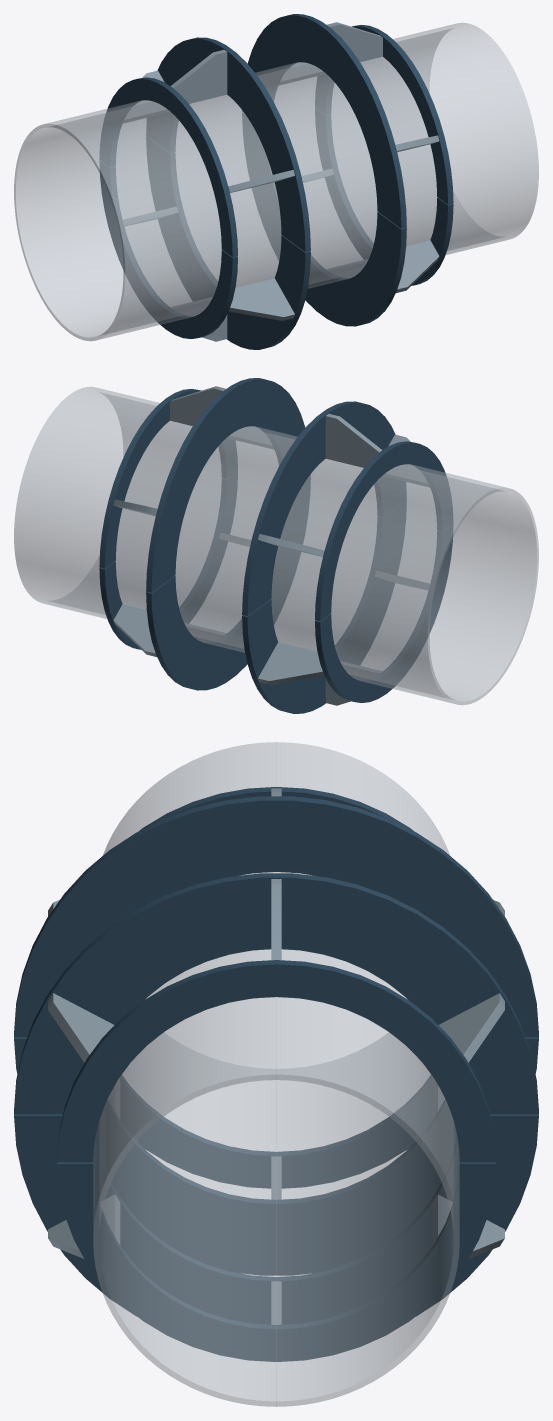
File: TS-667.00.00-opora-dn426-D610.glb
3 renders of one model, top to bottom at view 1: azimuth 30°, elevation 25°; view 2: azimuth 150°, elevation 25°; view 3: azimuth 270°, elevation 25°, orthographic. The views are drawn at different scales.
Visible parts, largest first — view 1: truba, polukoltso_1, polukoltso_6, polukoltso_11, polukoltso_16, polukoltso_usil_10, polukoltso_usil_20, polukoltso_usil_5, polukoltso_usil_15, rebro_8, rebro_17, rebro_12 (+6 smaller); view 2: truba, polukoltso_1, polukoltso_6, polukoltso_11, polukoltso_16, polukoltso_usil_10, polukoltso_usil_20, polukoltso_usil_5, polukoltso_usil_15, rebro_8, rebro_19, rebro_14 (+6 smaller); view 3: truba, polukoltso_1, polukoltso_6, polukoltso_16, polukoltso_11, polukoltso_usil_5, polukoltso_usil_15, polukoltso_usil_20, rebro_2, rebro_4, polukoltso_usil_10, rebro_12 (+2 smaller).
Part boxes in pixels (box(x1,y1,x2,y2)): truba: box(14, 22, 538, 341); polukoltso_1: box(242, 14, 406, 228); polukoltso_6: box(146, 37, 310, 251); polukoltso_11: box(242, 113, 406, 326); polukoltso_16: box(146, 136, 310, 349); polukoltso_usil_10: box(99, 77, 237, 256); polukoltso_usil_20: box(99, 161, 237, 338); polukoltso_usil_5: box(315, 25, 453, 204); polukoltso_usil_15: box(315, 108, 453, 285); rebro_8: box(171, 50, 227, 103); rebro_17: box(229, 278, 294, 320); rebro_12: box(396, 240, 439, 292); truba: box(14, 386, 538, 705); polukoltso_1: box(146, 378, 310, 592); polukoltso_6: box(242, 401, 406, 615); polukoltso_11: box(146, 477, 310, 690); polukoltso_16: box(242, 500, 406, 713); polukoltso_usil_10: box(315, 441, 453, 620); polukoltso_usil_20: box(315, 525, 453, 702); polukoltso_usil_5: box(99, 389, 237, 568); polukoltso_usil_15: box(99, 472, 237, 649); rebro_8: box(325, 414, 381, 467); rebro_19: box(258, 642, 323, 684); rebro_14: box(113, 604, 156, 656); truba: box(93, 742, 459, 1406); polukoltso_1: box(14, 873, 538, 1114); polukoltso_6: box(14, 796, 538, 1037); polukoltso_16: box(14, 1037, 538, 1275); polukoltso_11: box(14, 1114, 538, 1324); polukoltso_usil_5: box(57, 960, 495, 1162); polukoltso_usil_15: box(57, 1162, 495, 1361); polukoltso_usil_20: box(120, 1075, 432, 1188); rebro_2: box(438, 993, 504, 1062); rebro_4: box(48, 993, 114, 1062); polukoltso_usil_10: box(139, 787, 413, 830); rebro_12: box(48, 1194, 120, 1258).
Bounding box in the file's own units: 914 × 609 × 610.
